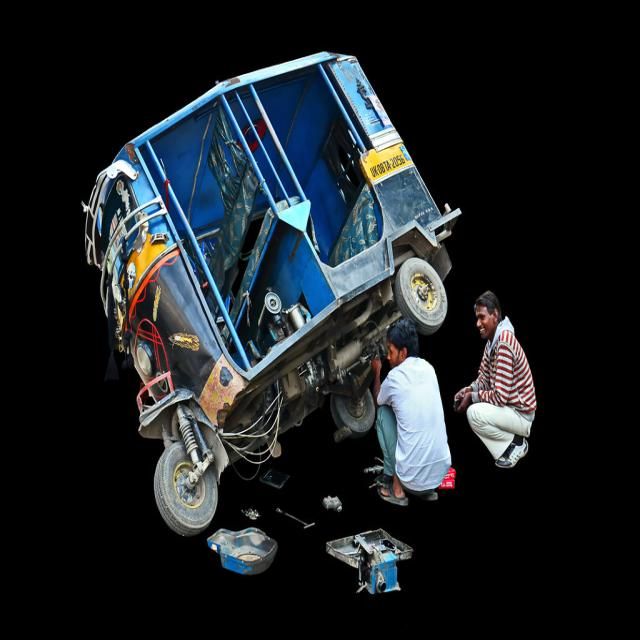autorickshaw: (85, 52, 460, 536)
